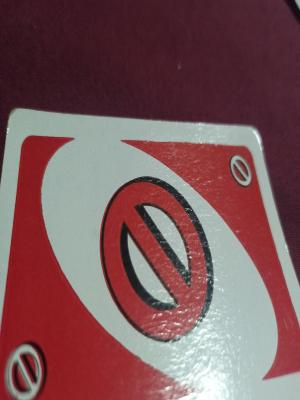skip: (94, 172, 220, 354), (0, 333, 50, 400), (228, 144, 256, 193)
